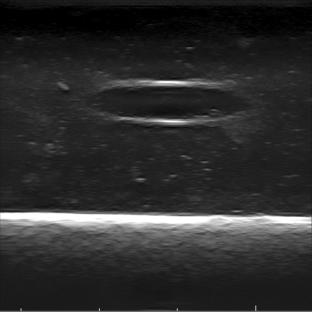vessel: (86, 79, 251, 126)
